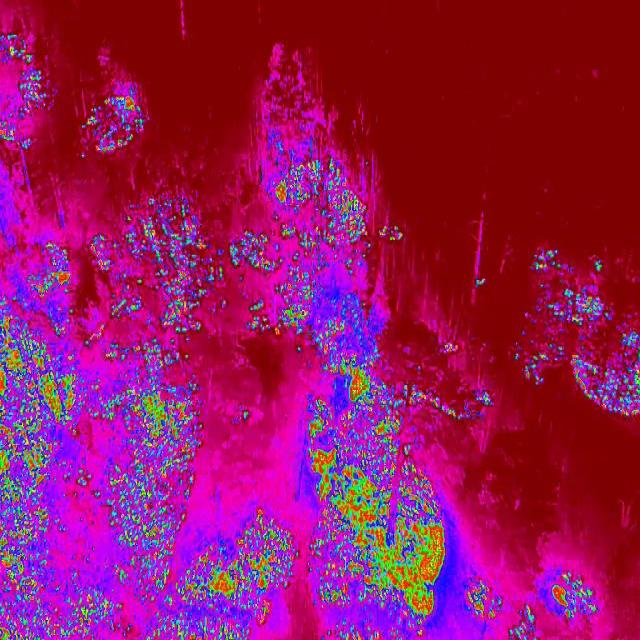fire: (71, 194, 200, 640), (234, 140, 418, 366), (302, 359, 449, 640), (0, 245, 70, 639), (513, 245, 640, 420), (200, 506, 302, 640), (0, 30, 66, 155), (73, 92, 151, 160), (469, 585, 545, 640), (542, 568, 597, 626), (200, 233, 233, 329), (448, 372, 498, 428), (231, 408, 252, 427)
